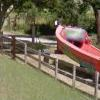Boat: (49, 17, 100, 81)
